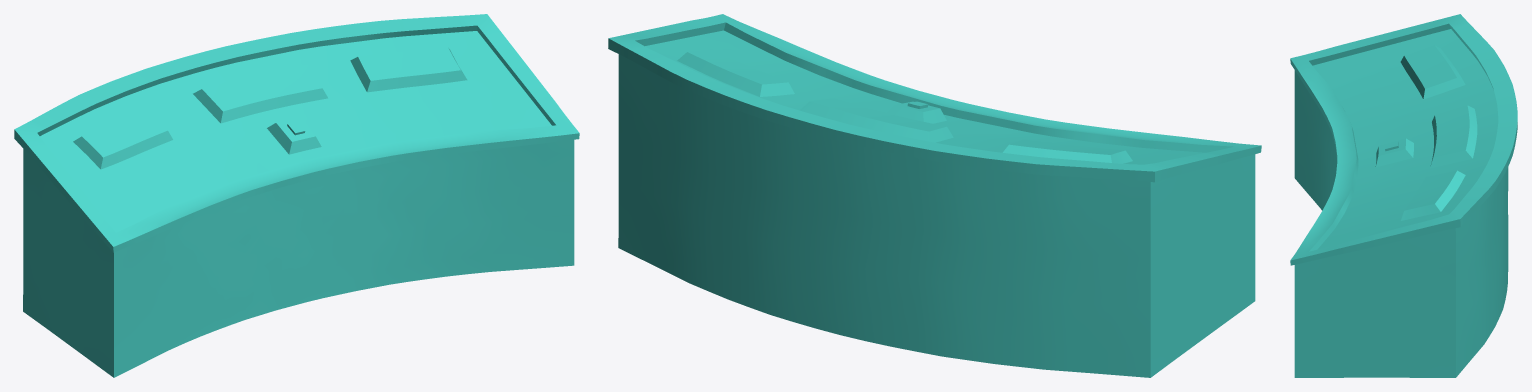
Rendered from console.fbx.
The picture shows the model from 3 angles, left to right: view 1: azimuth 30°, elevation 25°; view 2: azimuth 150°, elevation 25°; view 3: azimuth 270°, elevation 25°; orthographic projection. The views are drawn at different scales.
Visible parts, largest first — view 1: console1; view 2: console1; view 3: console1.
Part boxes in pixels (x1,y1,x2,y2): console1: (14, 14, 579, 377); console1: (608, 14, 1261, 377); console1: (1290, 14, 1517, 377).
Bounding box in the file's own units: 2.63 × 0.9645 × 1.23.
